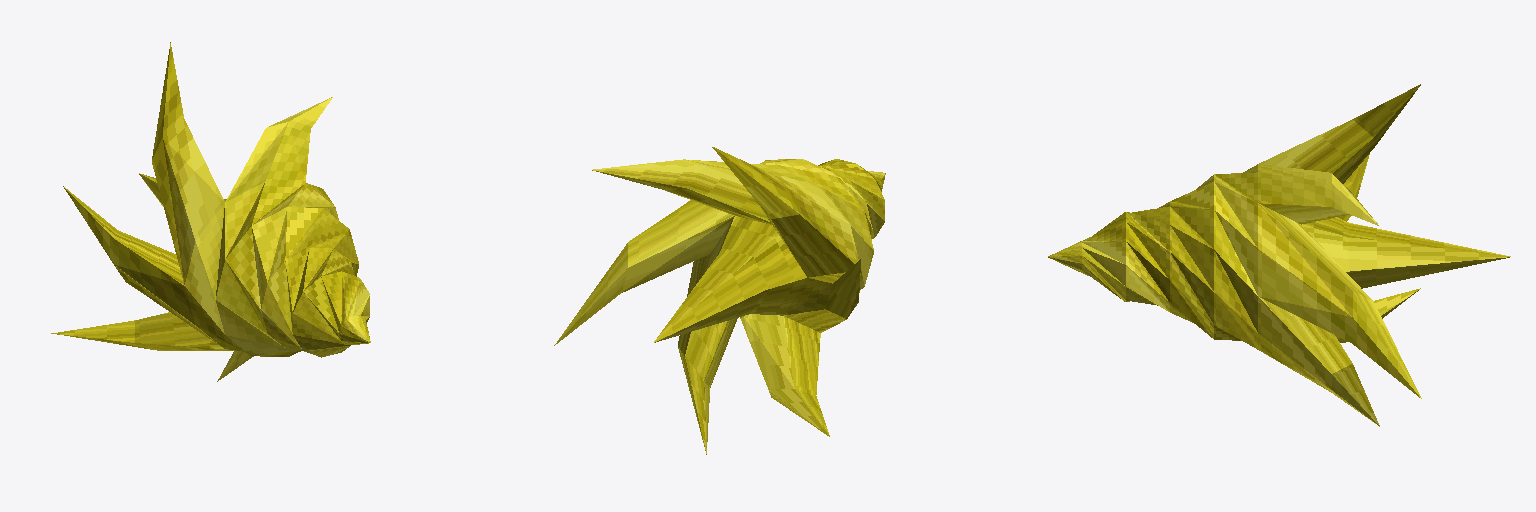
3 renders of one model, left to right at view 1: azimuth 30°, elevation 25°; view 2: azimuth 150°, elevation 25°; view 3: azimuth 270°, elevation 25°, orthographic.
Parts seen in each view (by area): view 1: polygon0; view 2: polygon0; view 3: polygon0.
Part boxes in pixels (left/top/right/bottom): polygon0: left=51, top=42, right=370, bottom=381; polygon0: left=554, top=147, right=885, bottom=454; polygon0: left=1048, top=84, right=1510, bottom=426.
Bounding box in the file's own units: 8.82 × 9.74 × 12.41.
Materials: 1 (1 with a texture image).